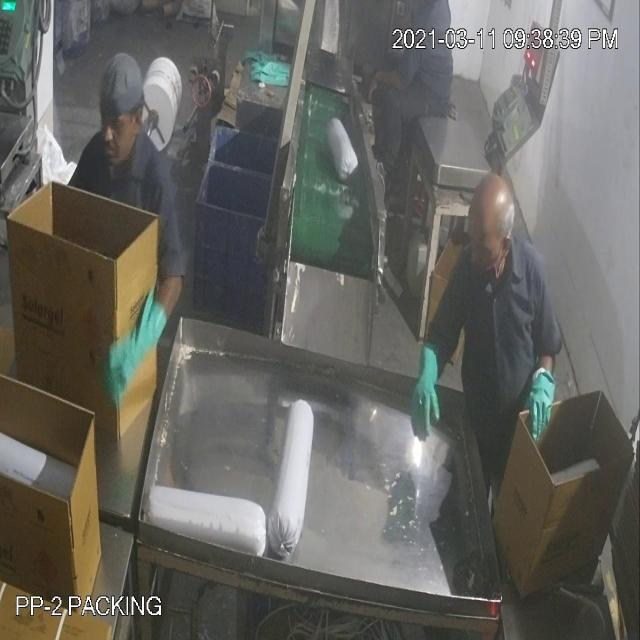gloves: (514, 360, 562, 449), (411, 328, 445, 450)
no-gloves: (360, 54, 412, 120)
